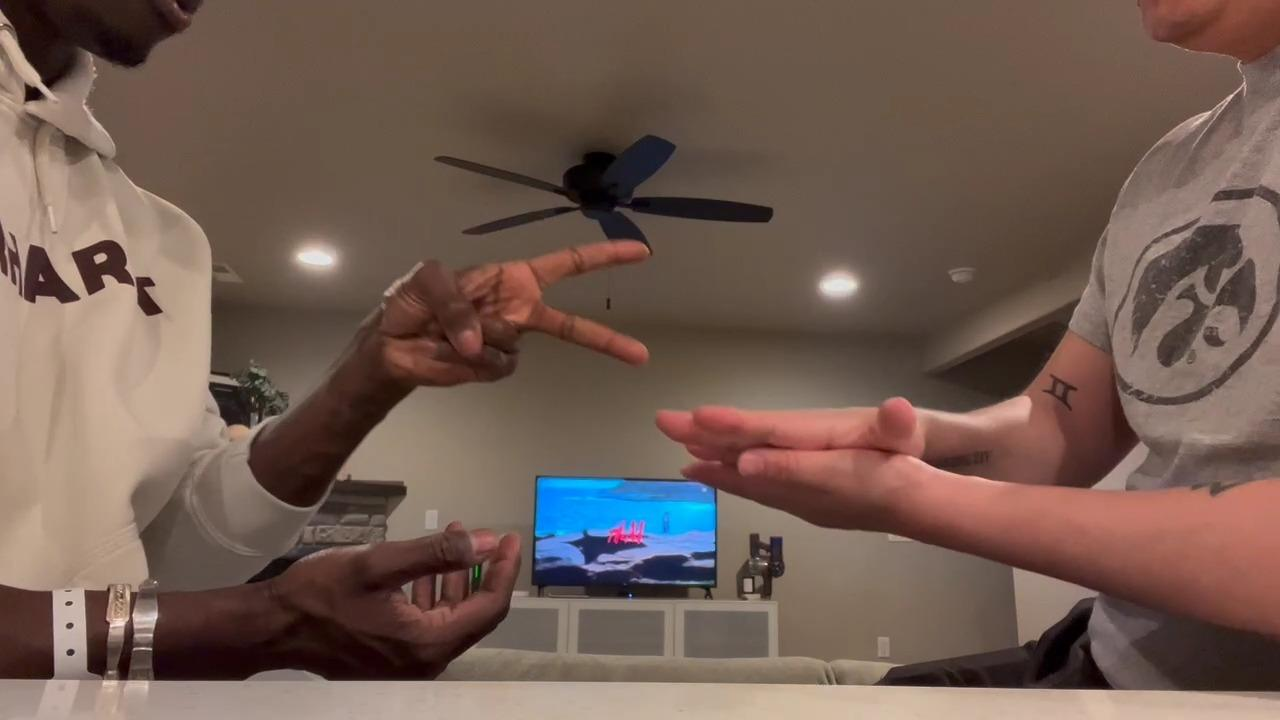Paper: (652, 397, 934, 465)
Scissors: (353, 235, 653, 385)
